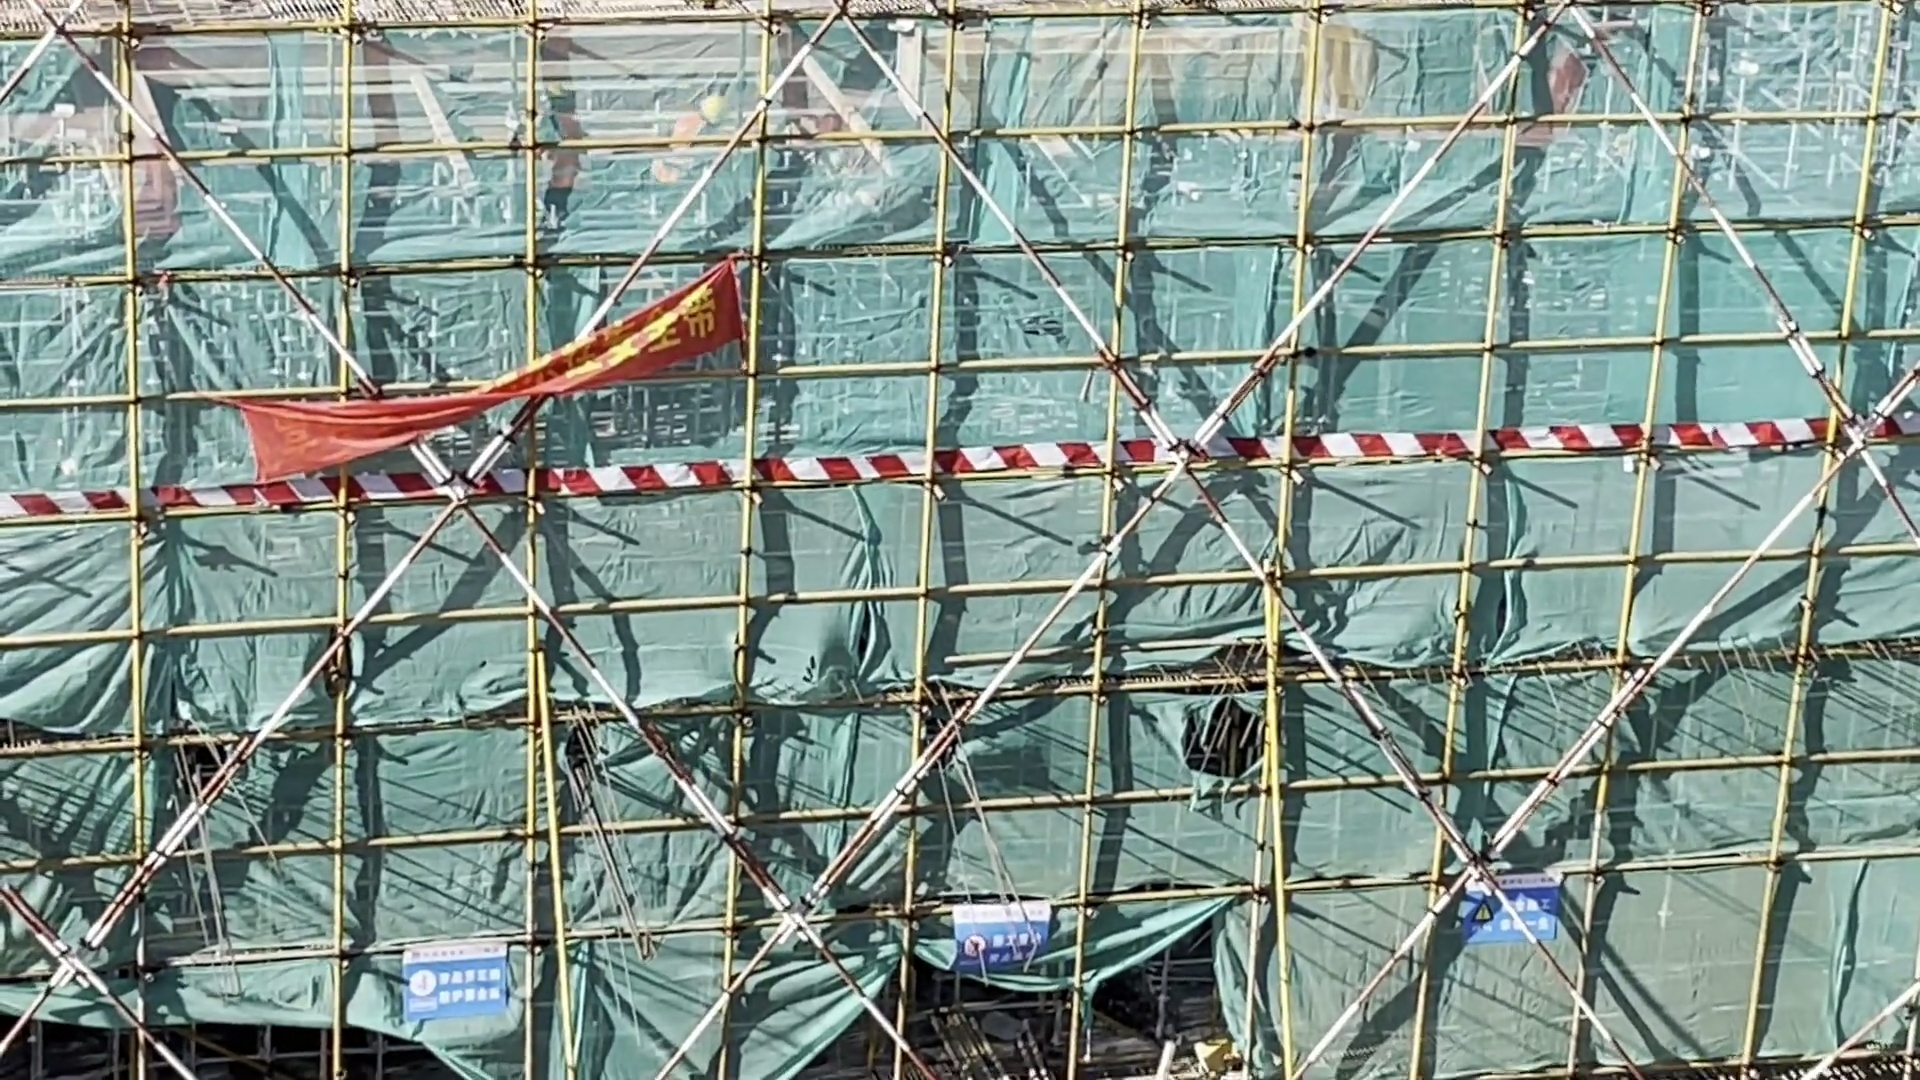slogan: (235, 227, 765, 487), (394, 909, 518, 1025), (1455, 855, 1580, 967), (945, 876, 1058, 1000)
